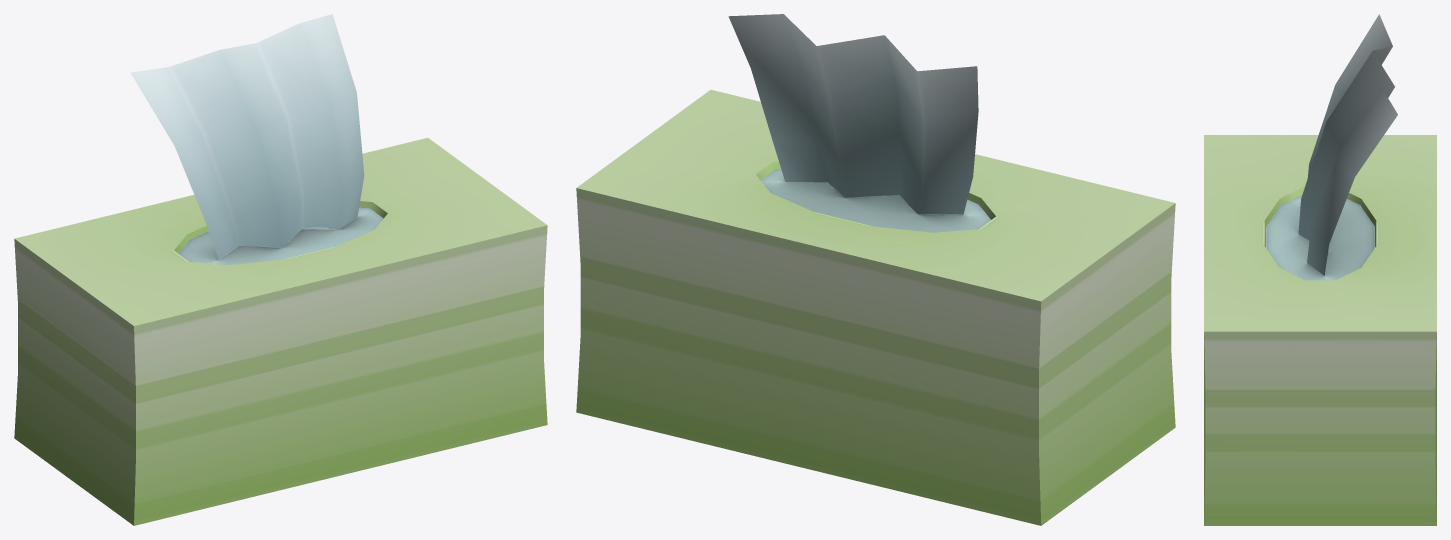
The model's file is prop_tissue_box.glb.
3 views of the same model, side by side, from view 1: azimuth 30°, elevation 25°; view 2: azimuth 150°, elevation 25°; view 3: azimuth 270°, elevation 25° (orthographic). The views are drawn at different scales.
Parts seen in each view (by area): view 1: Tissue_Box_low_Tissue_Box_0; view 2: Tissue_Box_low_Tissue_Box_0; view 3: Tissue_Box_low_Tissue_Box_0.
Part boxes in pixels (x1=…): Tissue_Box_low_Tissue_Box_0: x1=14, y1=14, x2=547, y2=525; Tissue_Box_low_Tissue_Box_0: x1=576, y1=14, x2=1175, y2=525; Tissue_Box_low_Tissue_Box_0: x1=1204, y1=14, x2=1436, y2=525.
Size of the model in its own units: 30.98 by 26.65 by 15.51.
Materials: 1 (1 with a texture image).
